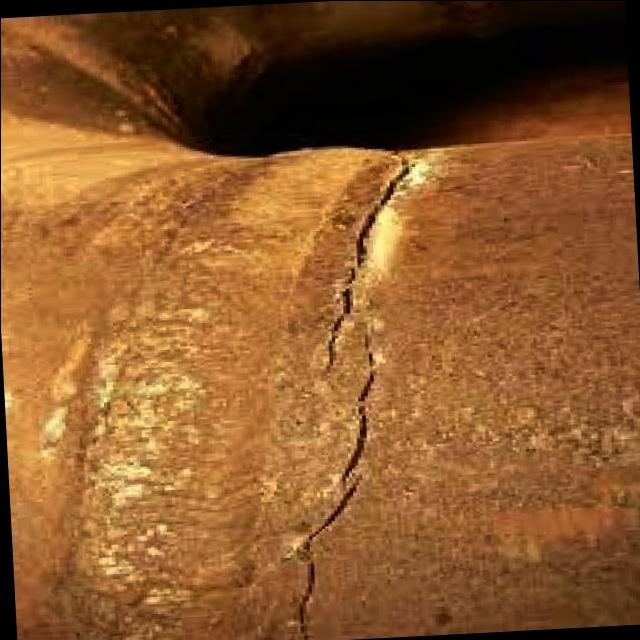defect: (286, 319, 383, 640), (316, 148, 417, 391)
